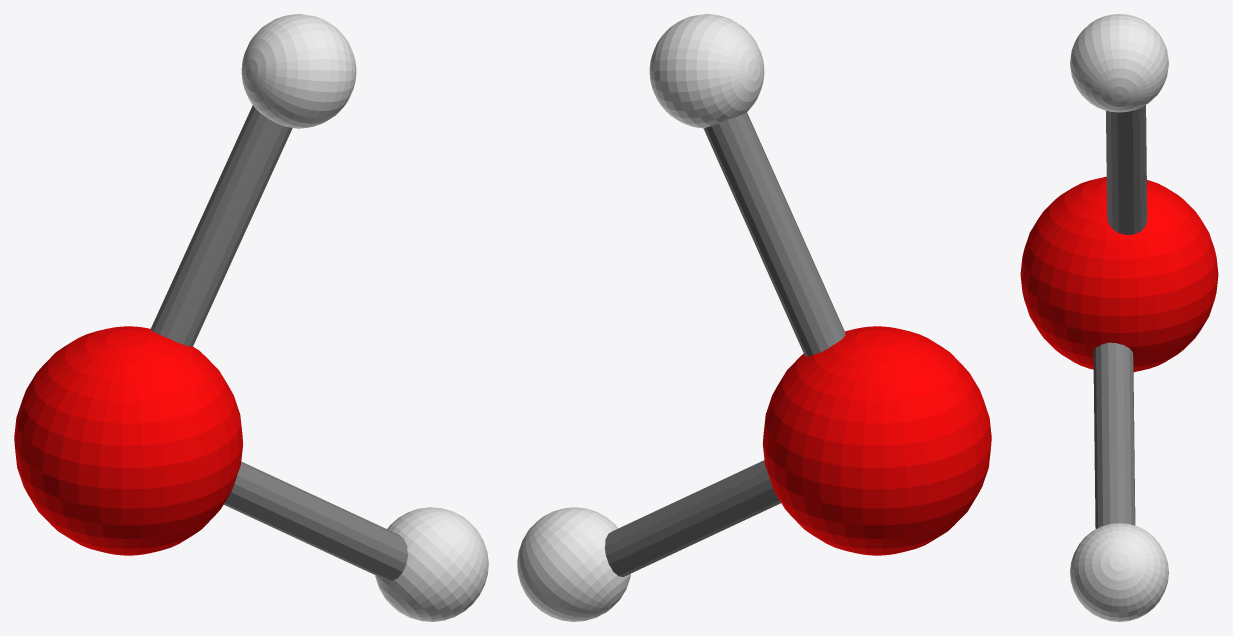
The picture shows the model from 3 angles, left to right: view 1: azimuth 30°, elevation 25°; view 2: azimuth 150°, elevation 25°; view 3: azimuth 270°, elevation 25°; orthographic projection. The views are drawn at different scales.
Parts seen in each view (by area): view 1: кислород, Cylinder, водород_2, водород_1, Cylinder.001; view 2: кислород, Cylinder, водород_2, водород_1, Cylinder.001; view 3: кислород, водород_1, водород_2, Cylinder.001, Cylinder.
Boxes of the visible parts, bbox=[...] form: кислород: bbox=[14, 326, 243, 555]; Cylinder: bbox=[150, 105, 292, 347]; водород_2: bbox=[241, 14, 356, 128]; водород_1: bbox=[375, 507, 488, 621]; Cylinder.001: bbox=[224, 461, 407, 580]; кислород: bbox=[762, 326, 991, 555]; Cylinder: bbox=[703, 112, 845, 356]; водород_2: bbox=[649, 14, 764, 128]; водород_1: bbox=[517, 507, 630, 621]; Cylinder.001: bbox=[604, 460, 780, 576]; кислород: bbox=[1020, 176, 1218, 372]; водород_1: bbox=[1070, 523, 1168, 621]; водород_2: bbox=[1070, 14, 1168, 112]; Cylinder.001: bbox=[1093, 342, 1135, 528]; Cylinder: bbox=[1106, 105, 1147, 234].
Size of the model in its own units: 2.73 by 3.63 by 1.2.
